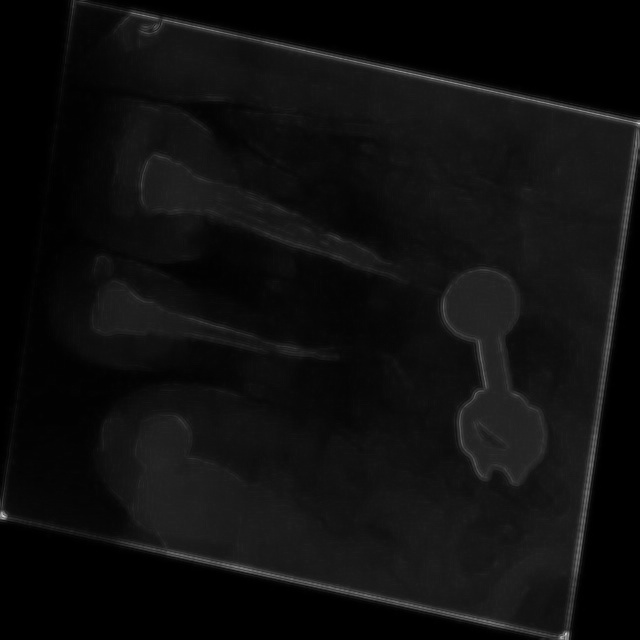Class 2- incomplete endodontic treatment: (33, 64, 526, 388), (35, 222, 458, 486)
